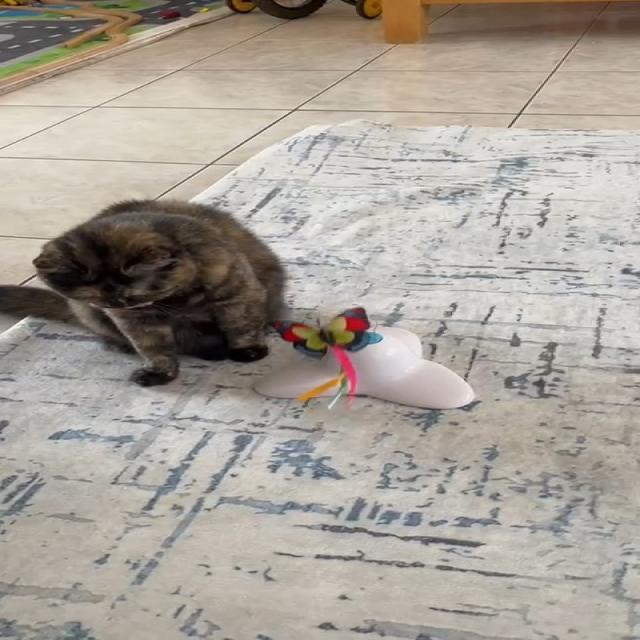authorized: (0, 197, 288, 386)
